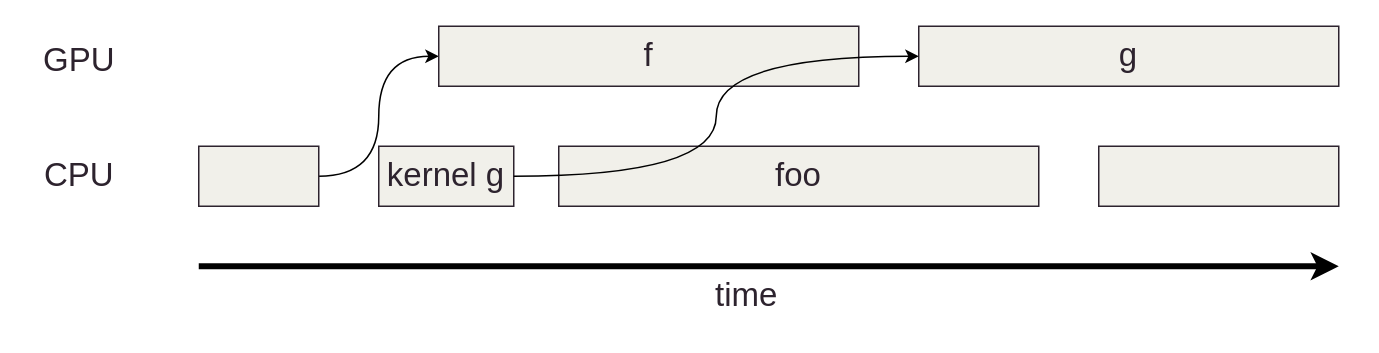
Some shapes in this 1379 by 353 pixel diagram are drawn without their labels. Here are the shapes that lost their labels. From the top down, the centre of each, then its label:
At pixel 258 175: "kernel f".
At pixel 1218 175: "sync w/ gpu".
